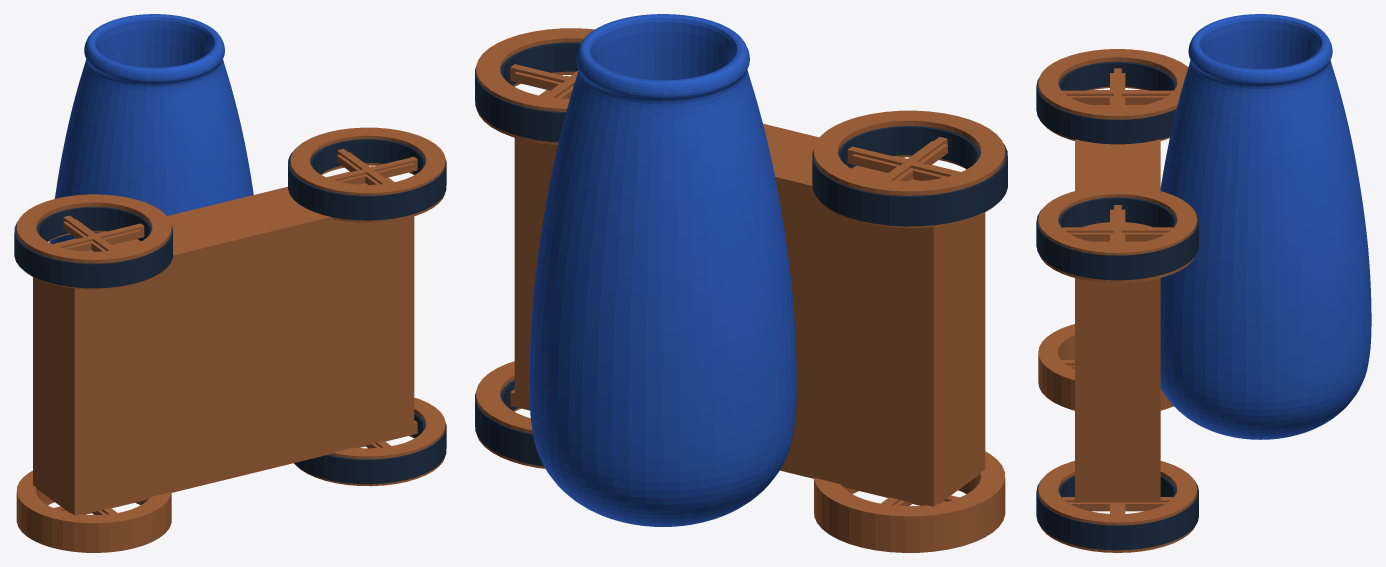
Rendered from pushka3.fbx.
3 renders of one model, left to right at view 1: azimuth 30°, elevation 25°; view 2: azimuth 150°, elevation 25°; view 3: azimuth 270°, elevation 25°, orthographic. The views are drawn at different scales.
Visible parts, largest first — view 1: Cylinder.002, Cylinder, Cylinder.001, Cylinder.006, Cylinder.005, Cylinder.004; view 2: Cylinder, Cylinder.002, Cylinder.001, Cylinder.005, Cylinder.006, Cylinder.004; view 3: Cylinder, Cylinder.002, Cylinder.001, Cylinder.006, Cylinder.005, Cylinder.004.
Boxes of the visible parts, <box> form: Cylinder.002: <box>33,148,417,515</box>; Cylinder: <box>49,14,253,243</box>; Cylinder.001: <box>16,127,445,552</box>; Cylinder.006: <box>288,139,446,220</box>; Cylinder.005: <box>14,206,172,288</box>; Cylinder.004: <box>294,412,446,484</box>; Cylinder: <box>529,14,796,526</box>; Cylinder.002: <box>510,64,985,506</box>; Cylinder.001: <box>476,28,1005,552</box>; Cylinder.005: <box>812,126,1007,226</box>; Cylinder.006: <box>475,42,580,142</box>; Cylinder.004: <box>475,379,543,466</box>; Cylinder: <box>1160,14,1371,439</box>; Cylinder.002: <box>1061,68,1173,513</box>; Cylinder.001: <box>1038,49,1197,552</box>; Cylinder.006: <box>1036,197,1198,280</box>; Cylinder.005: <box>1036,61,1176,144</box>; Cylinder.004: <box>1036,475,1198,550</box>.
Size of the model in its own units: 218 by 200 by 150.
